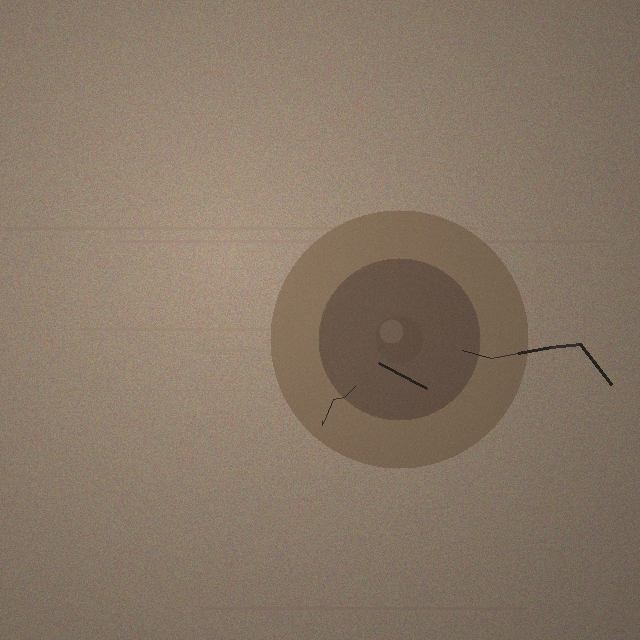crack: (270, 210, 528, 468)
